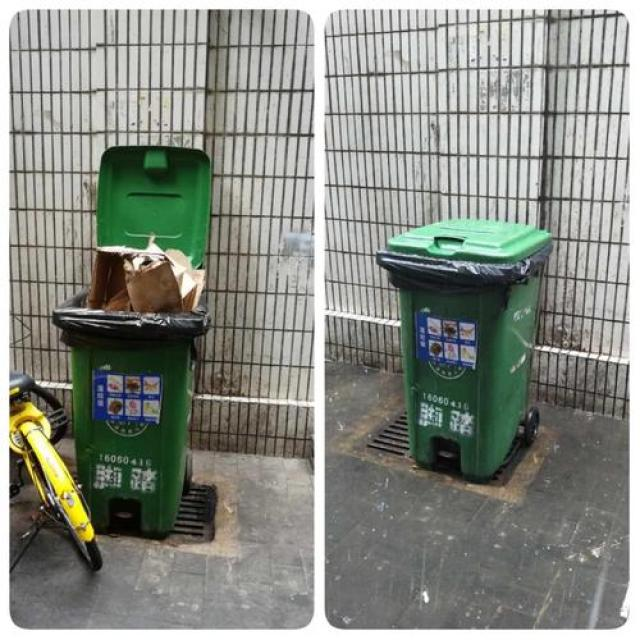garbage_bin: (375, 219, 550, 479)
overflow: (50, 234, 207, 534)
